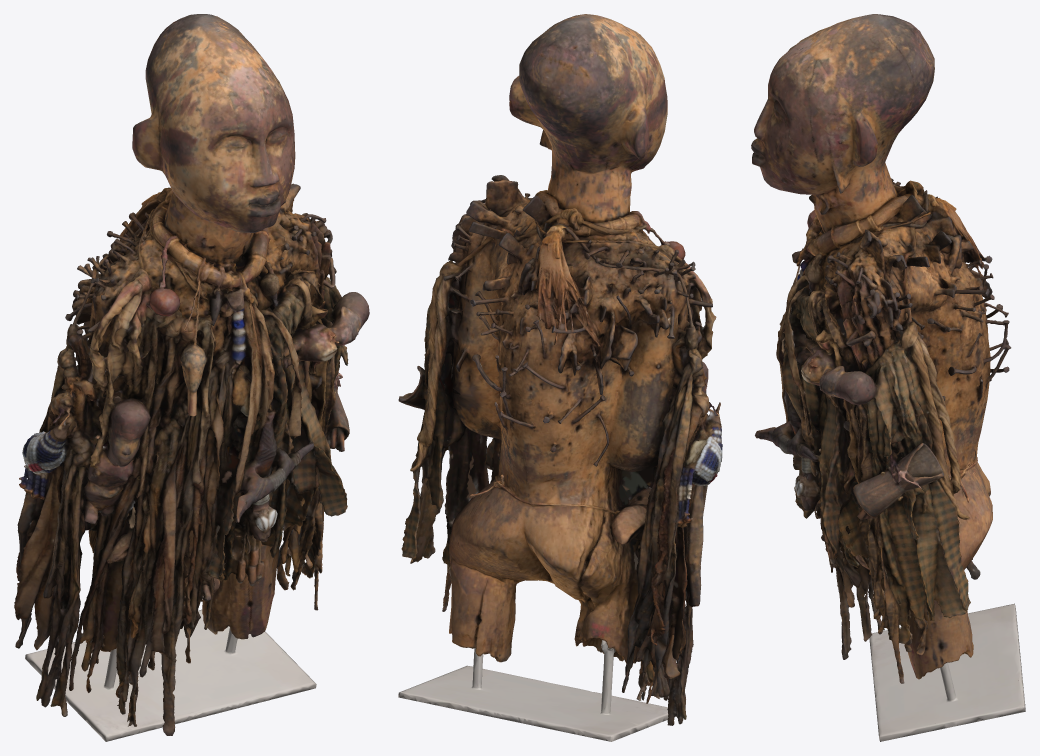
File: nkisi_power_figure.glb
3 renders of one model, left to right at view 1: azimuth 30°, elevation 25°; view 2: azimuth 150°, elevation 25°; view 3: azimuth 270°, elevation 25°, orthographic. The views are drawn at different scales.
Visible parts, largest first — view 1: ADVIMG_1979_206_127_PowerFigure_n3d; view 2: ADVIMG_1979_206_127_PowerFigure_n3d; view 3: ADVIMG_1979_206_127_PowerFigure_n3d.
Part boxes in pixels (bbox=[...]): ADVIMG_1979_206_127_PowerFigure_n3d: bbox=[14, 14, 369, 741]; ADVIMG_1979_206_127_PowerFigure_n3d: bbox=[398, 14, 722, 741]; ADVIMG_1979_206_127_PowerFigure_n3d: bbox=[751, 14, 1025, 741].
Size of the model in its own units: 0.2989 by 0.6312 by 0.2338.
Materials: 1 (1 with a texture image).
